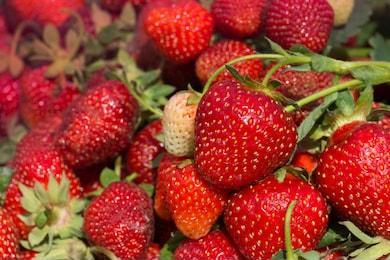Fresa: (190, 74, 303, 195), (220, 165, 333, 260), (309, 114, 390, 243), (153, 147, 229, 242), (78, 178, 159, 260)
